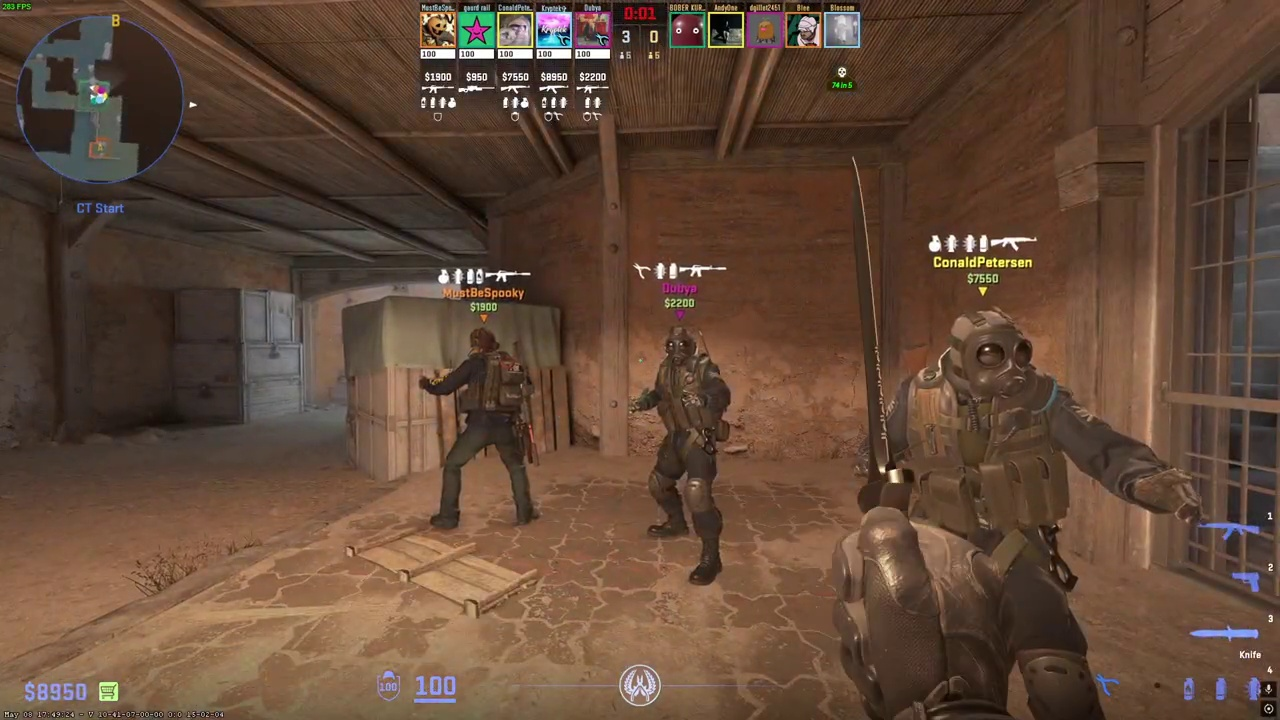CT: (884, 305, 1128, 720), (637, 327, 732, 582), (431, 327, 540, 529)
